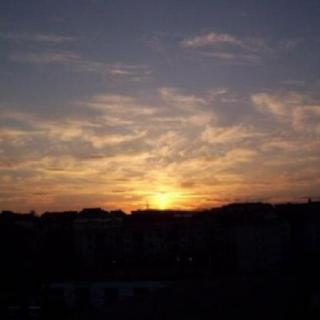Altocumulus: (2, 2, 320, 194)
